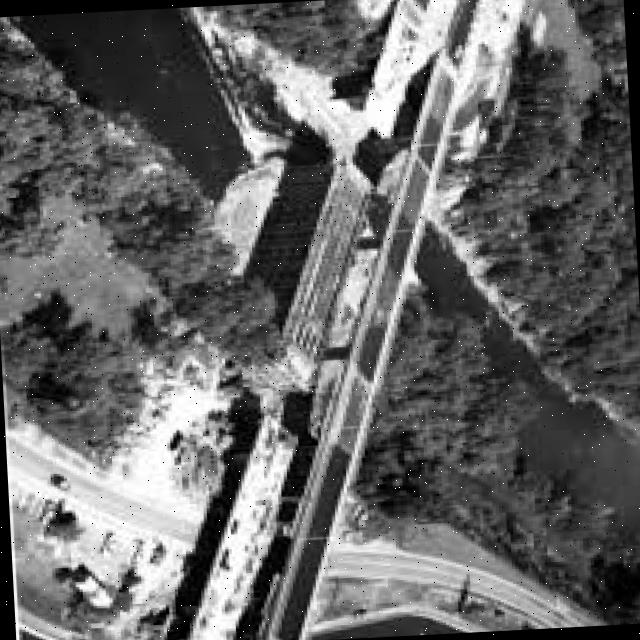bridge collapse: (186, 307, 368, 508), (268, 52, 434, 222)
